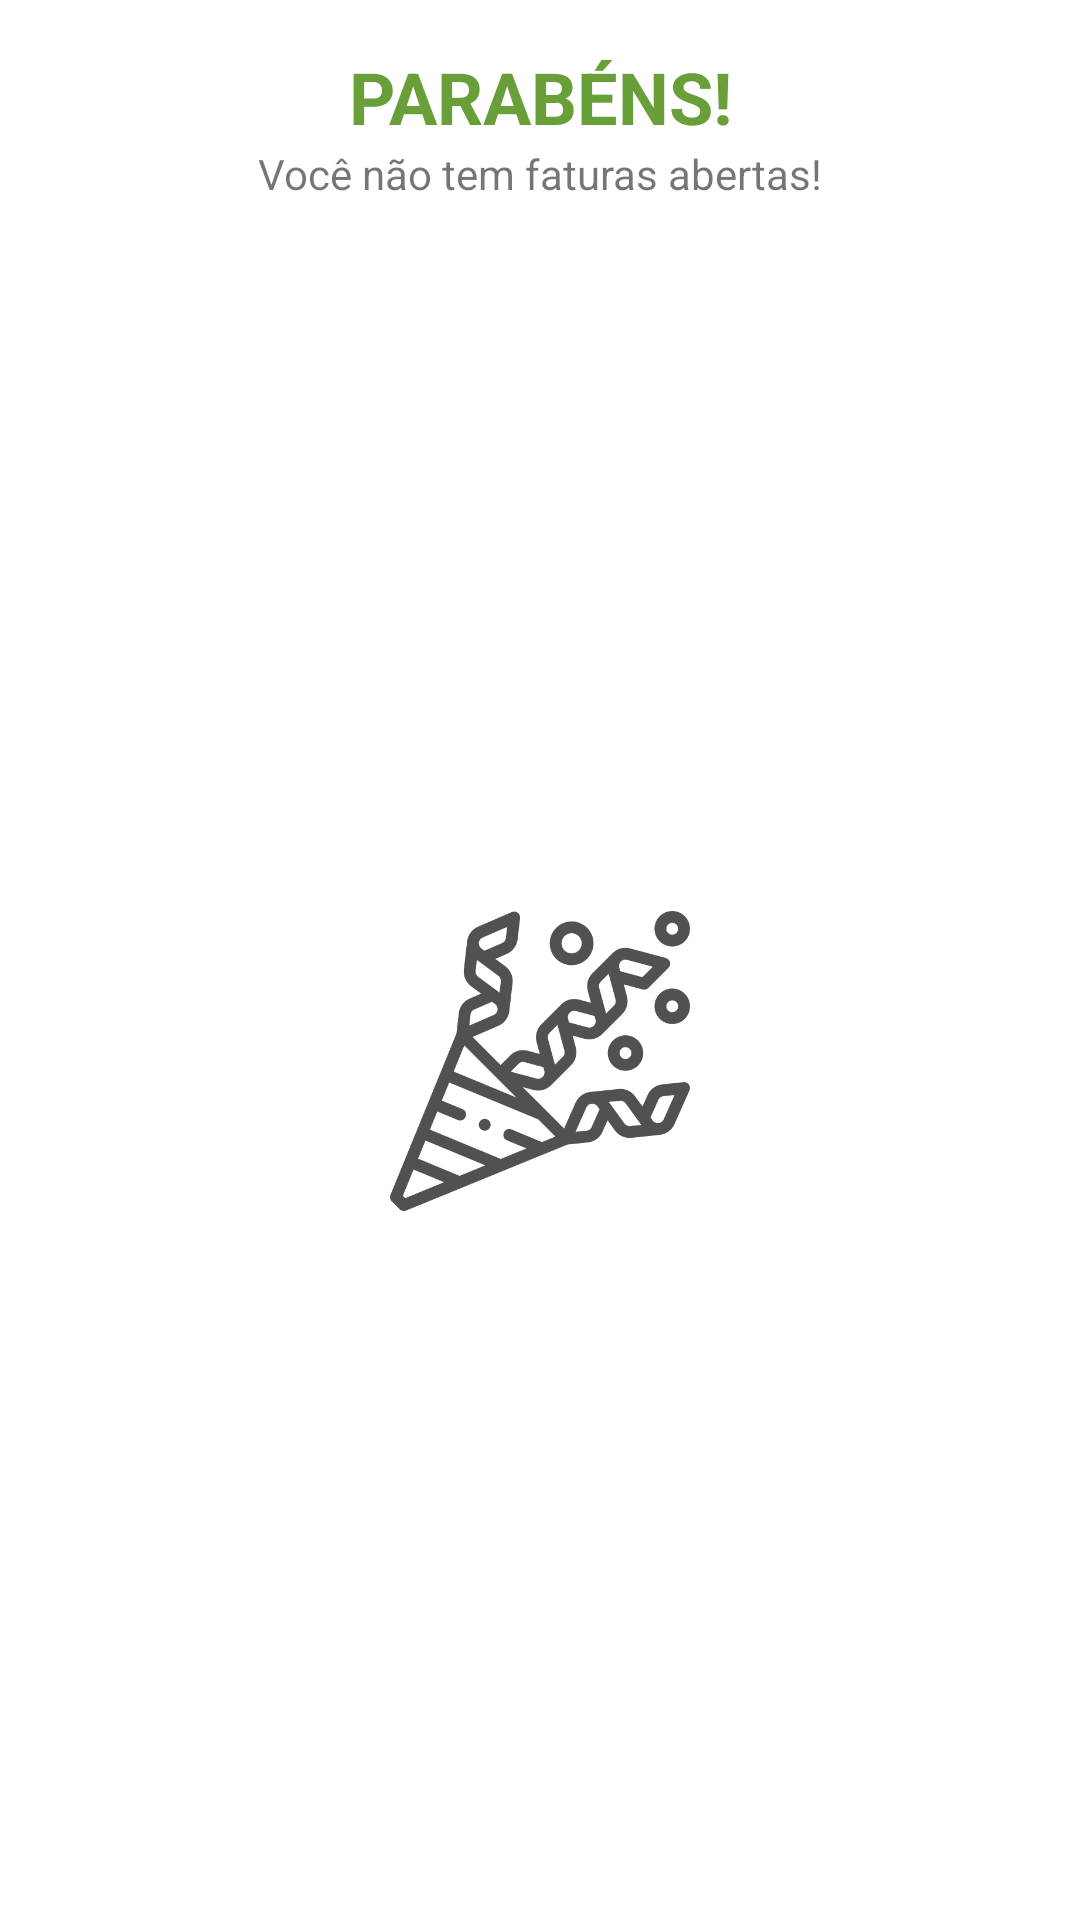

Screen size 1080*1920. Icon name, then its center in pixels as [x,y]:
cracker: [540,1061]
